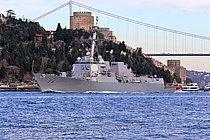MIL_Ship: (30, 49, 177, 94)
